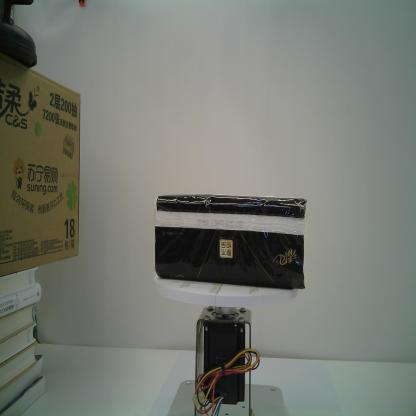Tissue: (152, 192, 312, 292)
